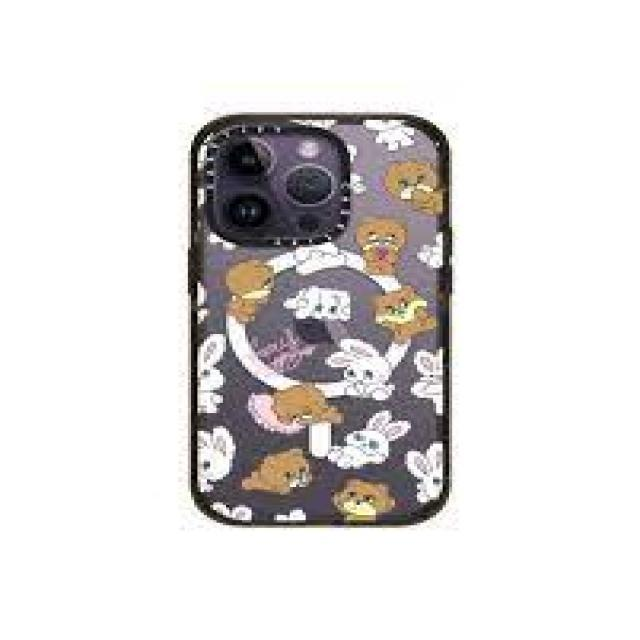phone: (183, 106, 458, 532)
